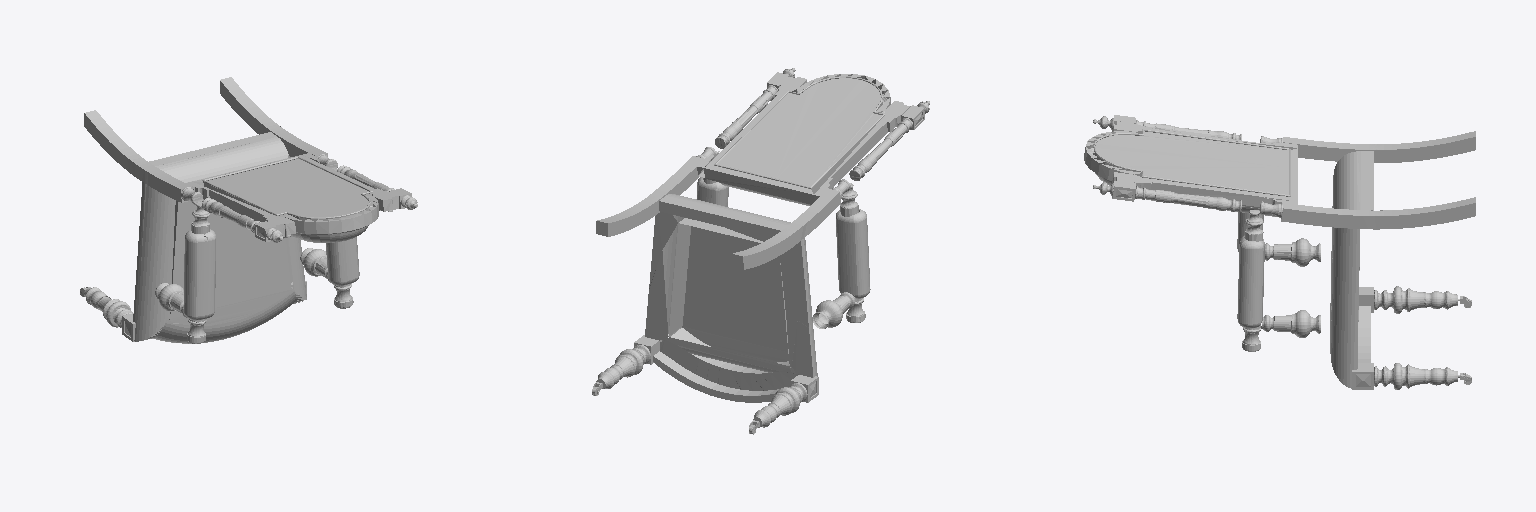
The model's file is chair_0303_Clustering_50pct.obj.
The picture shows the model from 3 angles: view 1: azimuth 30°, elevation 25°; view 2: azimuth 150°, elevation 25°; view 3: azimuth 270°, elevation 25°; orthographic projection.
Bounding box in the file's own units: 0.5316 × 0.6176 × 1.